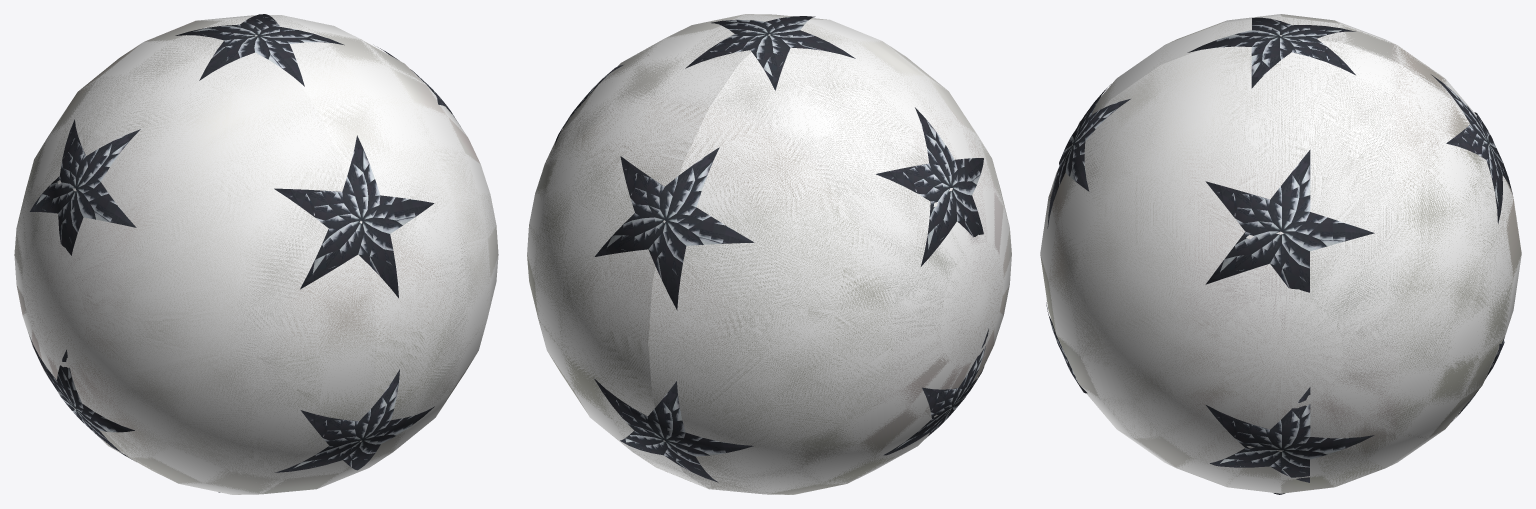
The model's file is prop_ballon_gonflable.fbx.
3 views of the same model, side by side, from view 1: azimuth 30°, elevation 25°; view 2: azimuth 150°, elevation 25°; view 3: azimuth 270°, elevation 25° (orthographic).
Visible parts, largest first — view 1: Group1, mesh06_material01_6, mesh06_material01_1, mesh06_material01_8, mesh06_material01_9, mesh06_material01_4; view 2: Group1, mesh06_material01_10, mesh06_material01_1, mesh06_material01_7, mesh06_material01_9, mesh06_material01_4; view 3: Group1, mesh06_material01_5, mesh06_material01_3, mesh06_material01_9, mesh06_material01_10, mesh06_material01_6.
Part boxes in pixels (x1,y1,x2,y2): Group1: [14, 15, 498, 494]; mesh06_material01_6: [274, 135, 434, 298]; mesh06_material01_1: [30, 119, 140, 255]; mesh06_material01_8: [275, 369, 434, 472]; mesh06_material01_9: [175, 14, 344, 86]; mesh06_material01_4: [29, 336, 134, 460]; Group1: [527, 14, 1011, 494]; mesh06_material01_10: [594, 147, 754, 310]; mesh06_material01_1: [876, 107, 983, 266]; mesh06_material01_7: [594, 378, 753, 482]; mesh06_material01_9: [685, 16, 855, 90]; mesh06_material01_4: [883, 328, 988, 455]; Group1: [1040, 14, 1521, 493]; mesh06_material01_5: [1205, 150, 1374, 292]; mesh06_material01_3: [1206, 387, 1374, 482]; mesh06_material01_9: [1187, 17, 1355, 88]; mesh06_material01_10: [1431, 74, 1512, 223]; mesh06_material01_6: [1047, 84, 1130, 228].
Bounding box in the file's own units: 0.4895 × 0.4895 × 0.4895.
